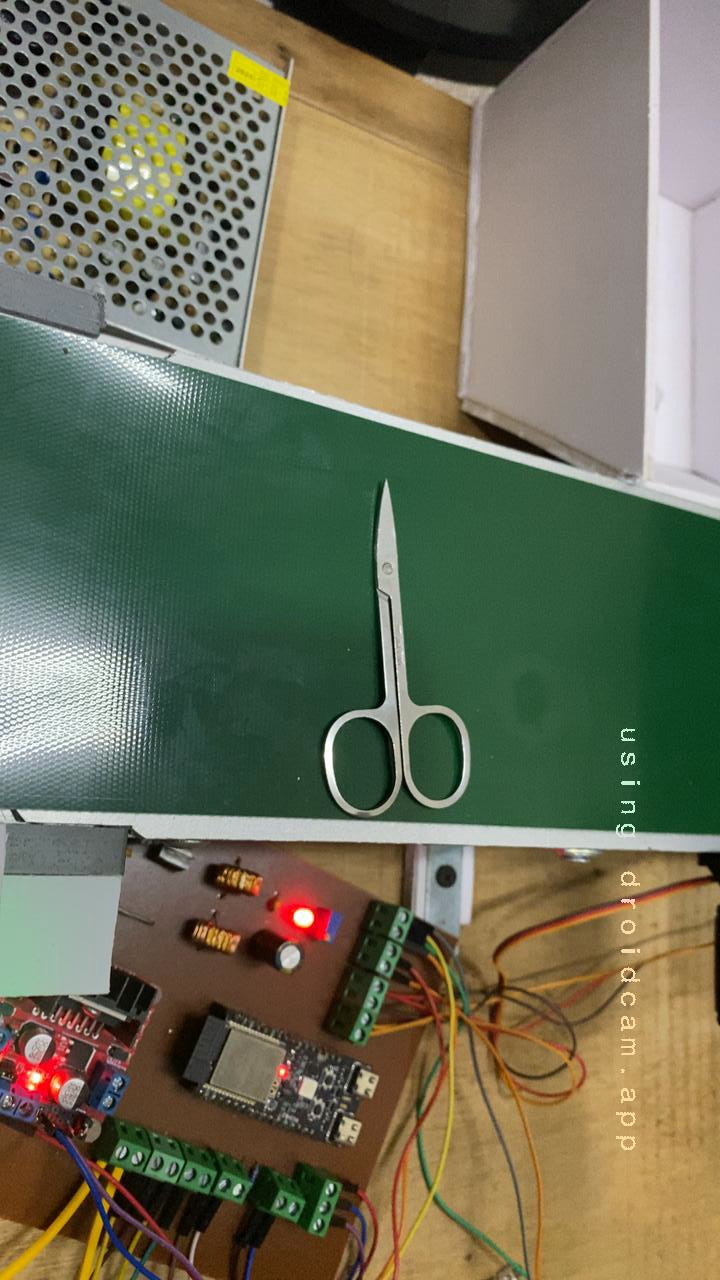scissor: (289, 457, 492, 827)
